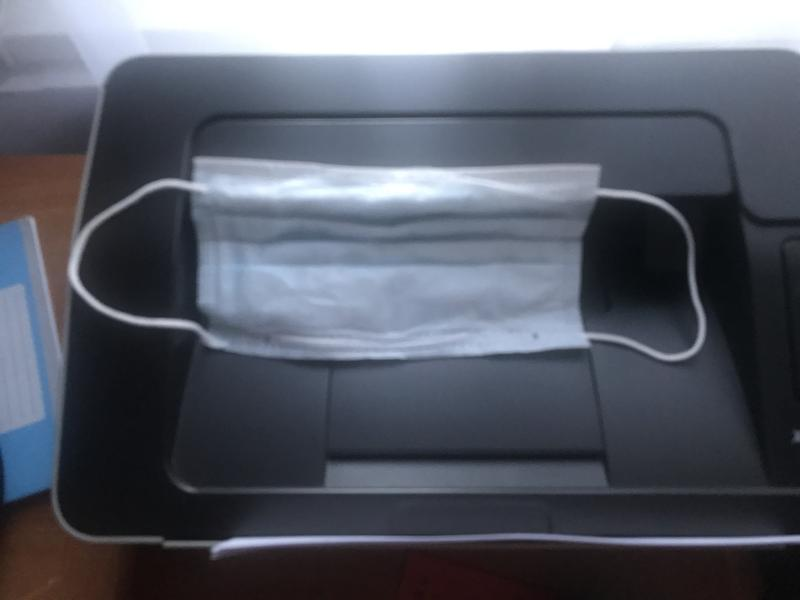medical_mask: (69, 155, 706, 361)
